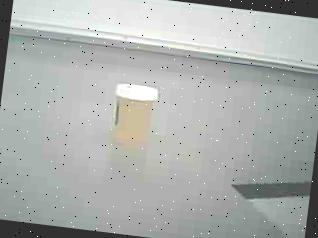Bottle B: (101, 74, 169, 156)
